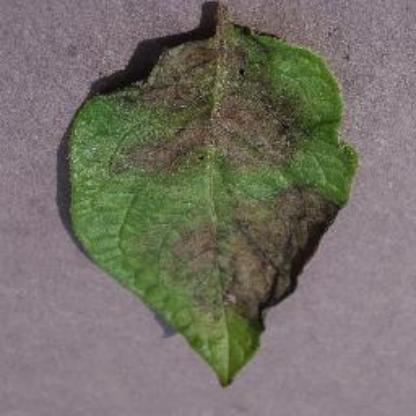Late-Blight: (62, 22, 364, 394)
